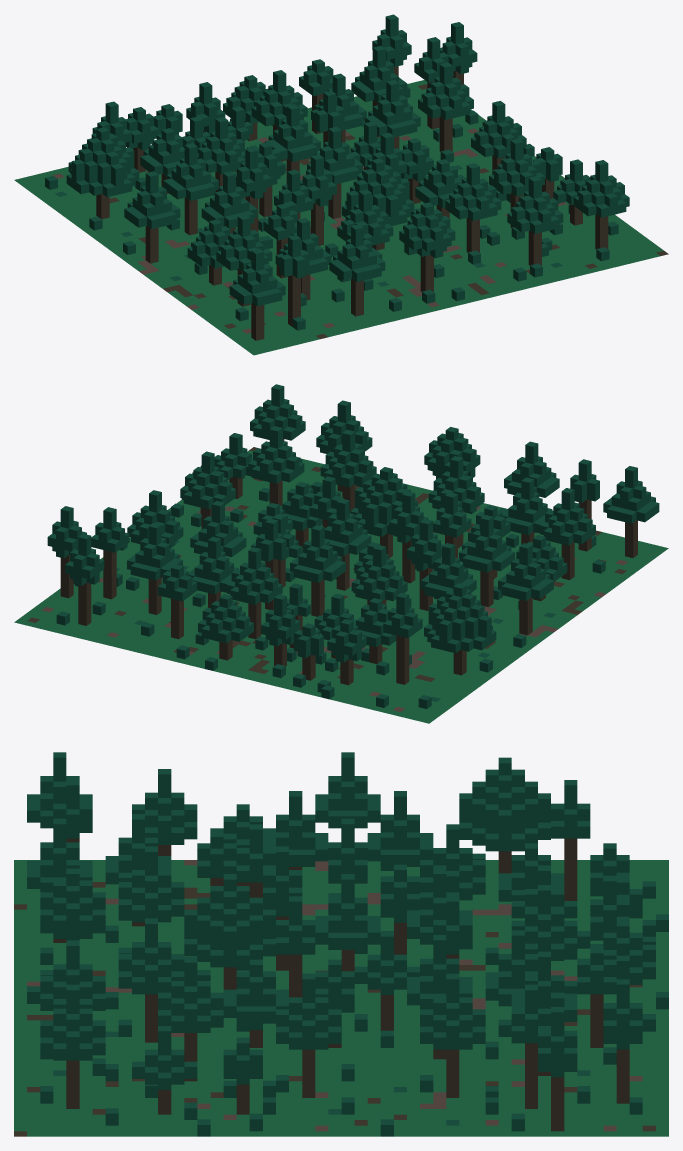
Rendered from forest wall 12.obj.
3 renders of one model, top to bottom at view 1: azimuth 30°, elevation 25°; view 2: azimuth 150°, elevation 25°; view 3: azimuth 270°, elevation 25°, orthographic. The views are drawn at different scales.
Visible parts, largest first — view 1: Untitled; view 2: Untitled; view 3: Untitled.
Part boxes in pixels (bbox=[...]): Untitled: bbox=[14, 14, 668, 355]; Untitled: bbox=[14, 384, 668, 723]; Untitled: bbox=[14, 752, 668, 1136].
Bounding box in the file's own units: 5 × 1 × 5.
1 material, 1 textured.
